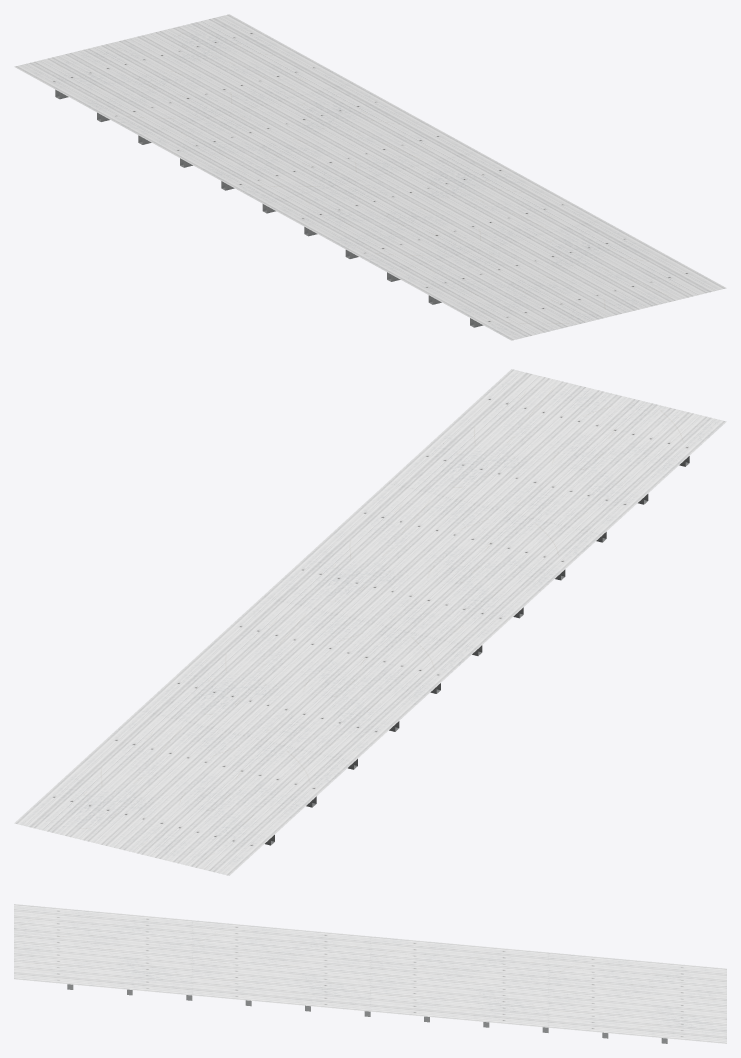
File: warehouse_roof.glb
3 renders of one model, top to bottom at view 1: azimuth 30°, elevation 25°; view 2: azimuth 150°, elevation 25°; view 3: azimuth 270°, elevation 25°, orthographic. The views are drawn at different scales.
Parts seen in each view (by area): view 1: Plane.072, Plane.073, Plane.015, Plane.074; view 2: Plane.015, Plane.074, Plane.072, Plane.073; view 3: Plane.015, Plane.072, Plane.073, Plane.074.
Part boxes in pixels (x1,y1,x2,y2): Plane.072: [139, 82, 477, 203]; Plane.073: [263, 151, 601, 272]; Plane.015: [14, 14, 353, 135]; Plane.074: [387, 219, 726, 340]; Plane.015: [14, 710, 353, 875]; Plane.074: [387, 369, 726, 534]; Plane.072: [138, 596, 477, 762]; Plane.073: [263, 482, 602, 648]; Plane.015: [548, 952, 726, 1043]; Plane.072: [370, 936, 548, 1027]; Plane.073: [192, 920, 370, 1011]; Plane.074: [14, 904, 192, 995].
Bounding box in the file's own units: 12 × 4.8 × 48.
Materials: 2 (2 with a texture image).
